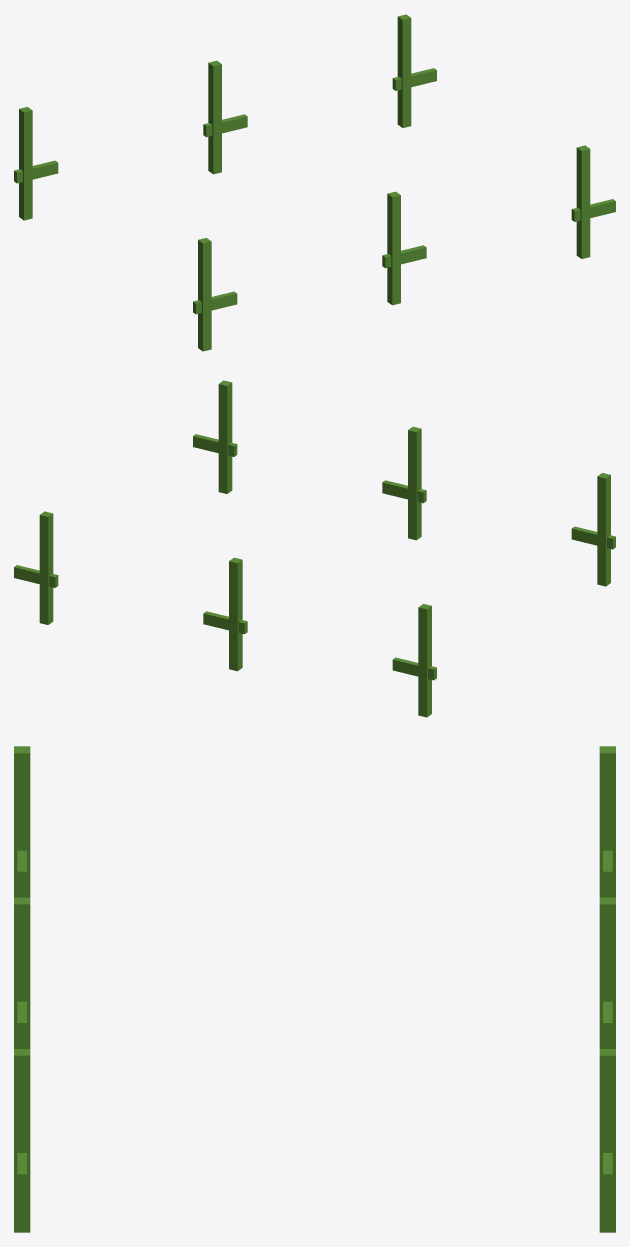
The model's file is wheat_young.glb.
3 views of the same model, one above another, from view 1: azimuth 30°, elevation 25°; view 2: azimuth 150°, elevation 25°; view 3: azimuth 270°, elevation 25° (orthographic). The views are drawn at different scales.
Visible parts, largest first — view 1: wheat_young; view 2: wheat_young; view 3: wheat_young.
Part boxes in pixels (x1,y1,x2,y2): wheat_young: [14, 14, 615, 351]; wheat_young: [14, 380, 615, 717]; wheat_young: [14, 746, 615, 1232].
Size of the model in its own units: 1.22 by 0.3 by 0.925.
1 material, 1 textured.
